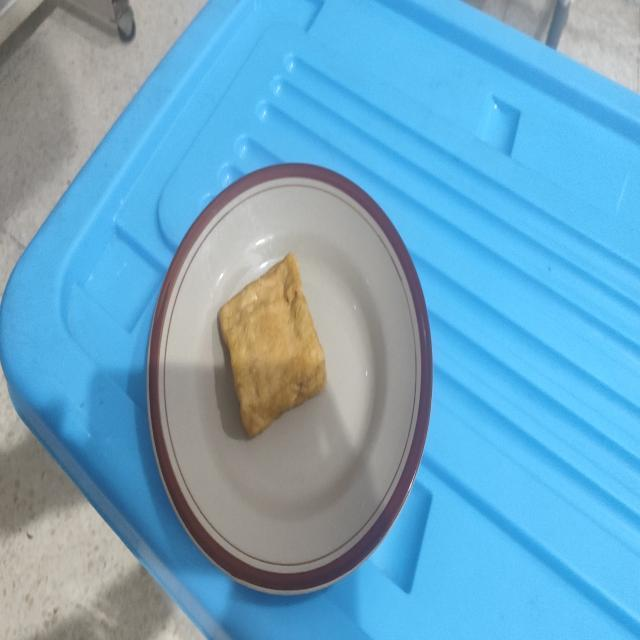tahu_goreng: (218, 254, 326, 436)
